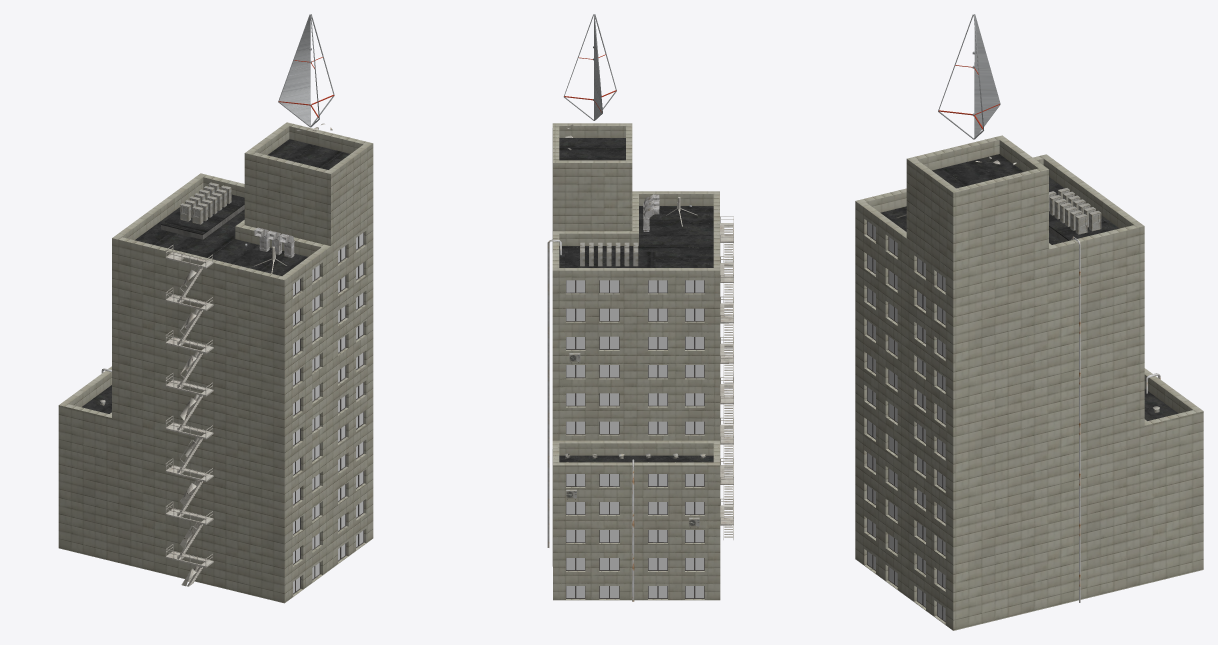
Rendered from KB3D_NEC_BldgLG_A_BuildingB_H47.glb.
The picture shows the model from 3 angles, left to right: view 1: azimuth 30°, elevation 25°; view 2: azimuth 150°, elevation 25°; view 3: azimuth 270°, elevation 25°; orthographic projection. The views are drawn at different scales.
Visible parts, largest first — view 1: KB3D_NEC_BldgLG_A_BuildingB; view 2: KB3D_NEC_BldgLG_A_BuildingB; view 3: KB3D_NEC_BldgLG_A_BuildingB.
Boxes of the visible parts, x1=… form: KB3D_NEC_BldgLG_A_BuildingB: x1=58, y1=14, x2=373, y2=603; KB3D_NEC_BldgLG_A_BuildingB: x1=547, y1=14, x2=733, y2=601; KB3D_NEC_BldgLG_A_BuildingB: x1=855, y1=14, x2=1203, y2=630.
Bounding box in the file's own units: 22.67 × 46.72 × 25.11.
12 materials, 10 textured.
